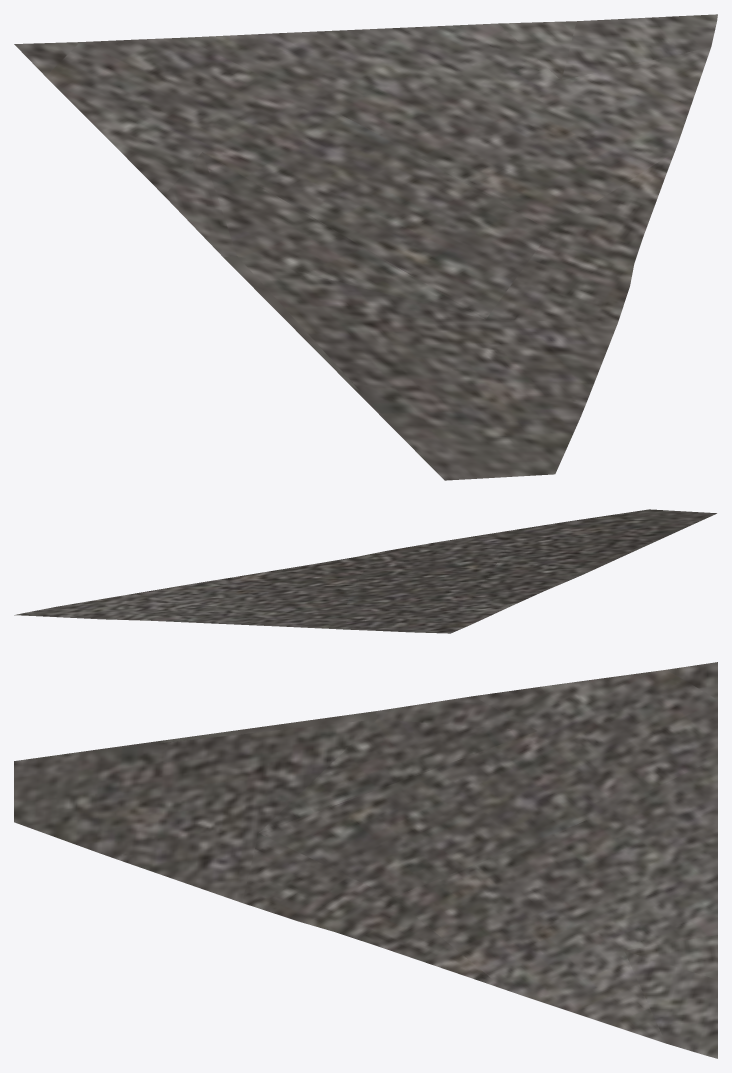
The picture shows the model from 3 angles, top to bottom: view 1: azimuth 30°, elevation 25°; view 2: azimuth 150°, elevation 25°; view 3: azimuth 270°, elevation 25°; orthographic projection. The views are drawn at different scales.
Size of the model in its own units: 0.7903 by 0.1524 by 0.8374.
2 materials, 2 textured.
